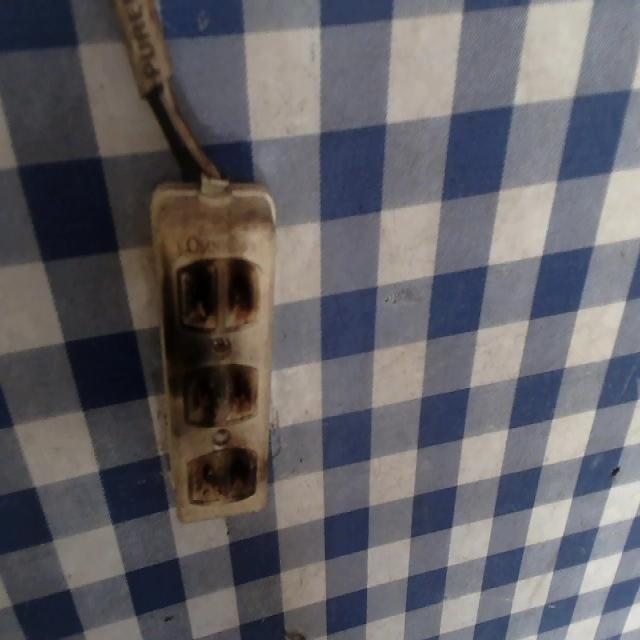-: (172, 252, 261, 332), (179, 360, 260, 427), (184, 442, 258, 507)
